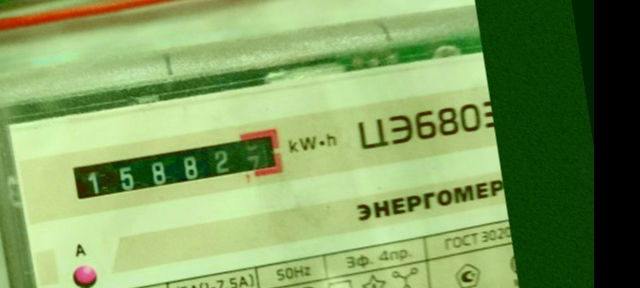1: (84, 165, 102, 195)
2: (210, 146, 231, 174)
5: (115, 161, 137, 193)
7: (244, 150, 260, 169)
8: (179, 150, 200, 181), (147, 156, 167, 187)
screen: (58, 117, 290, 212)
